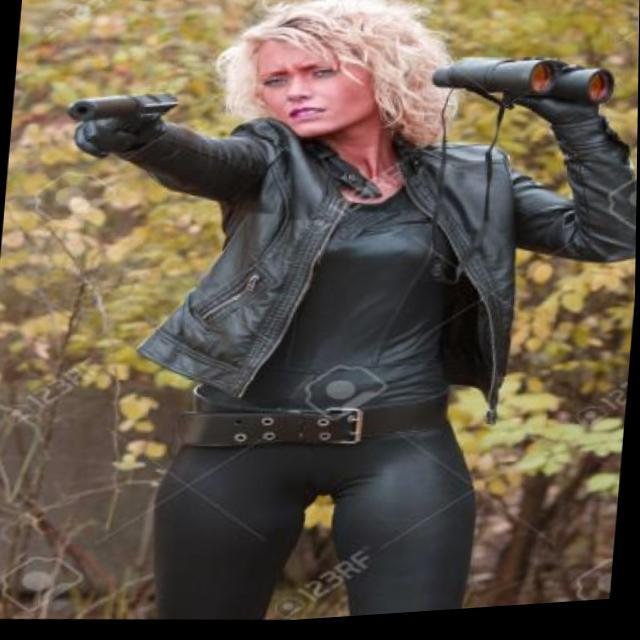weapon: (38, 78, 194, 176)
